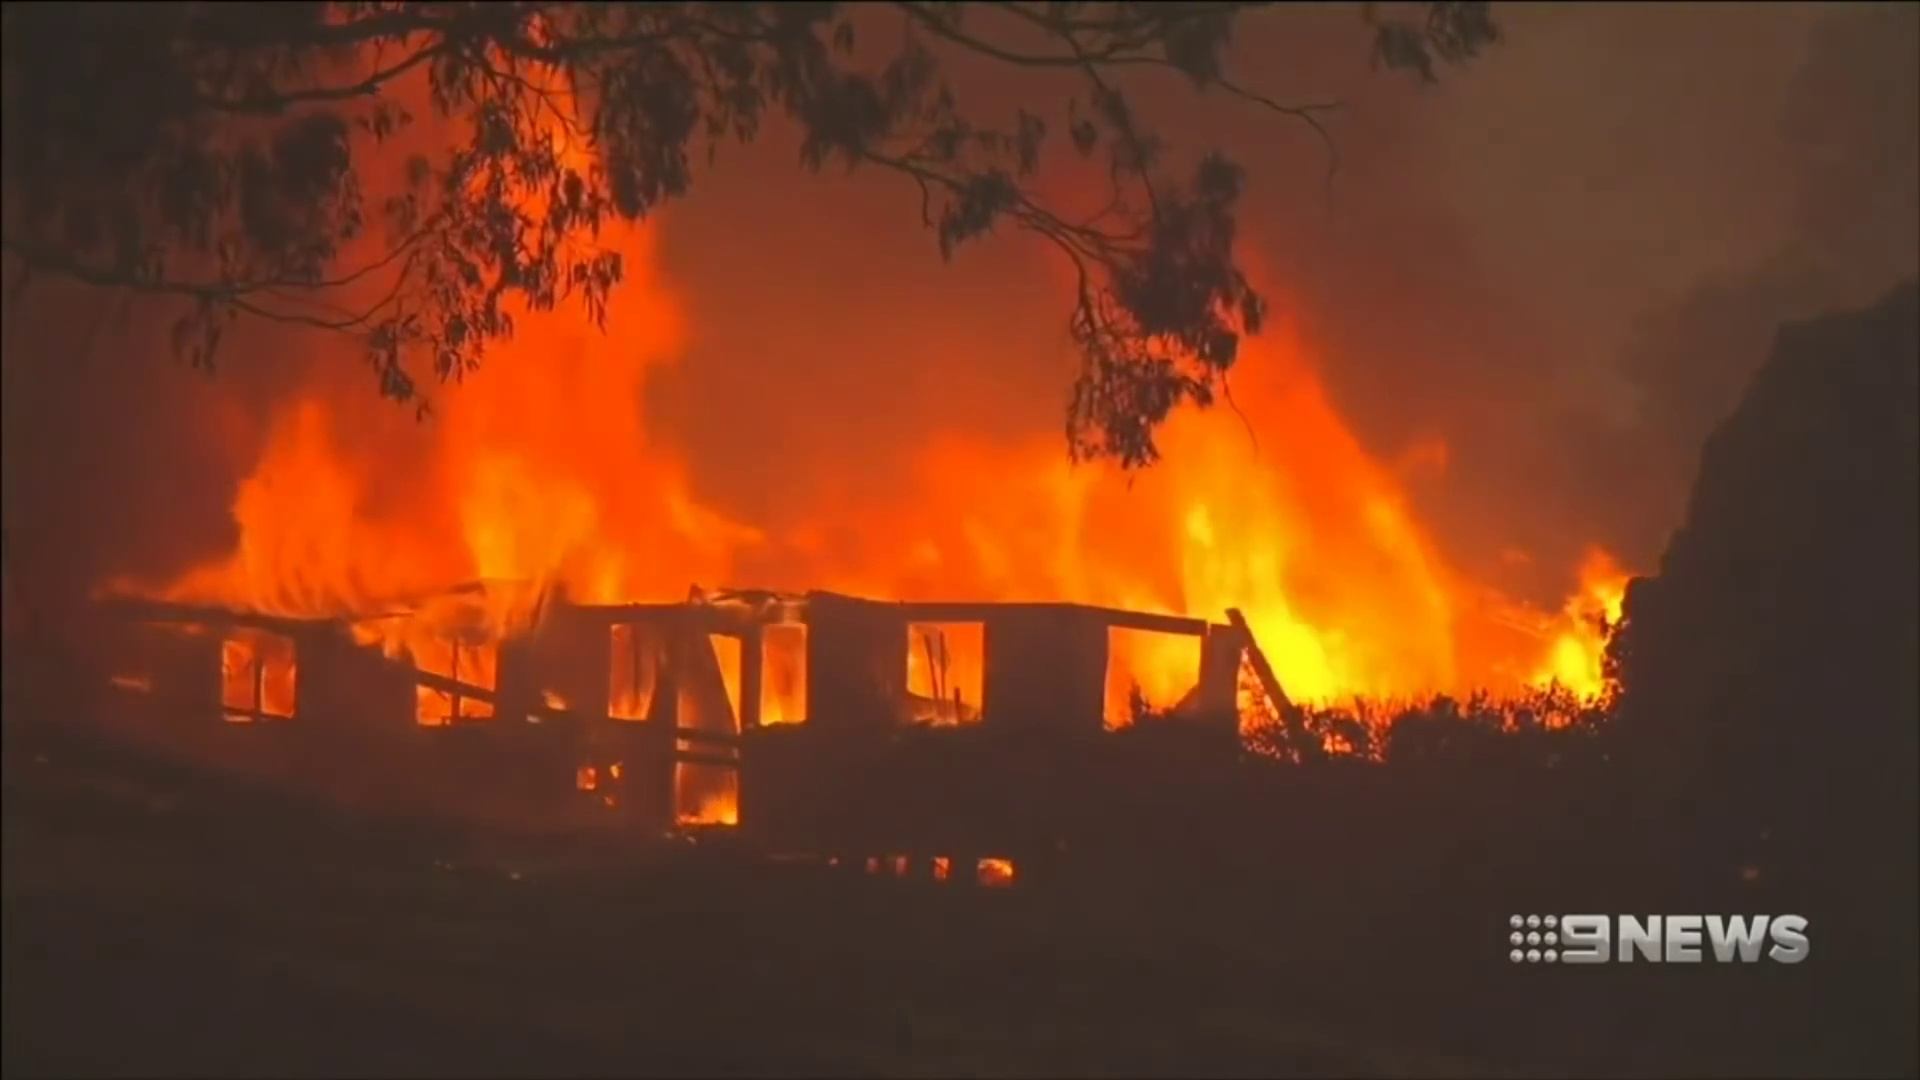fire: (1262, 611, 1335, 694), (1551, 626, 1610, 705)
